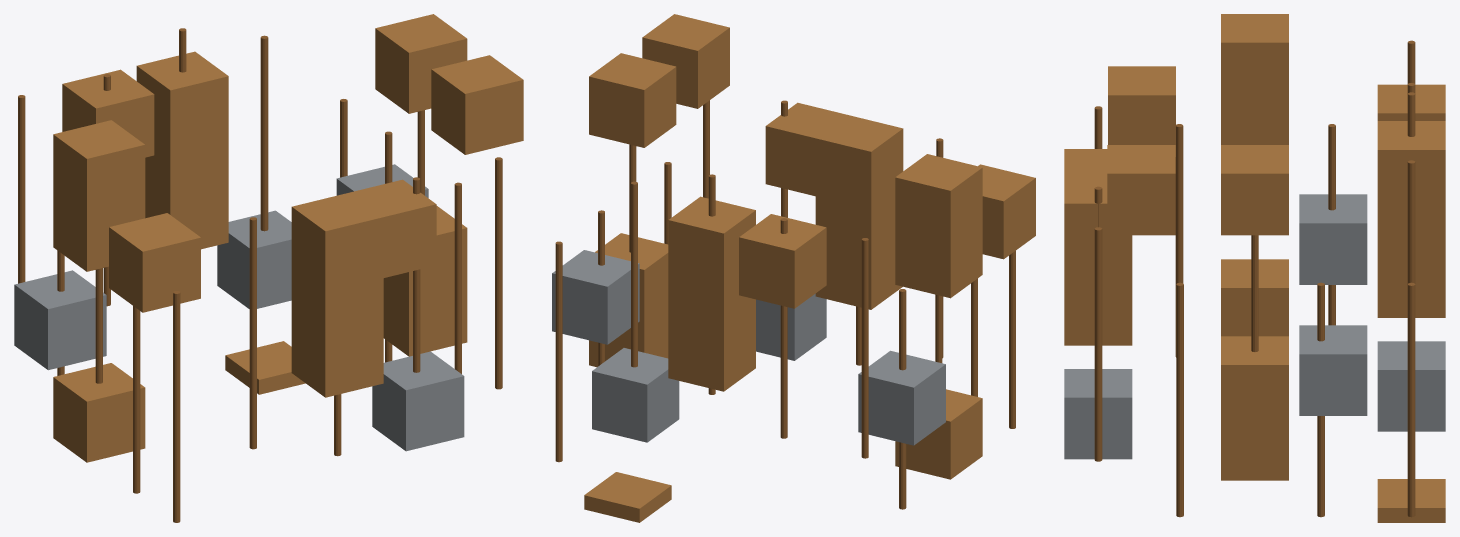
Rendered from upgrade-effect.glb.
3 renders of one model, left to right at view 1: azimuth 30°, elevation 25°; view 2: azimuth 150°, elevation 25°; view 3: azimuth 270°, elevation 25°, orthographic. The views are drawn at different scales.
Visible parts, largest first — view 1: Scaffold_Rail_Right_2.001, Scaffold_Rail_Left_1.001, Scaffold_Brace_Front_0, Scaffold_Rail_Left_2, Scaffold_Rail_Front_2, Scaffold_Brace_Left_2, Scaffold_Rail_Left_0, Scaffold_Rail_Back_2, Scaffold_Rail_Right_2, Scaffold_Rail_Front_0, Scaffold_Brace_Back_1, Scaffold_Rail_Front_2.001 (+20 smaller); view 2: Scaffold_Rail_Right_2, Scaffold_Rail_Back_2.001, Scaffold_Brace_Back_1, Scaffold_Brace_Left_2, Scaffold_Rail_Front_2, Scaffold_Rail_Left_2, Scaffold_Brace_Right_3, Scaffold_Rail_Back_2, Scaffold_Rail_Right_2.001, Scaffold_Rail_Back_0, Scaffold_Rail_Left_1, Scaffold_Rail_Front_2.001 (+18 smaller); view 3: Scaffold_Rail_Right_2.001, Scaffold_Rail_Right_2, Scaffold_Brace_Right_3, Scaffold_Brace_Left_2, Scaffold_Rail_Right_1, Scaffold_Rail_Left_2, Scaffold_Brace_Back_1, Scaffold_Brace_Front_0, Scaffold_Rail_Left_1.001, Scaffold_Rail_Back_2, Scaffold_Rail_Left_0, Scaffold_Rail_Front_2.001 (+17 smaller).
Part boxes in pixels (<box>): Scaffold_Rail_Right_2.001: <box>431,55,523,154</box>; Scaffold_Rail_Left_1.001: <box>109,213,200,312</box>; Scaffold_Brace_Front_0: <box>372,351,464,451</box>; Scaffold_Rail_Left_2: <box>53,120,145,219</box>; Scaffold_Rail_Front_2: <box>291,192,383,291</box>; Scaffold_Brace_Left_2: <box>14,270,106,370</box>; Scaffold_Rail_Left_0: <box>53,363,145,462</box>; Scaffold_Rail_Back_2: <box>136,51,228,151</box>; Scaffold_Rail_Right_2: <box>375,14,467,113</box>; Scaffold_Rail_Front_0: <box>291,312,383,397</box>; Scaffold_Brace_Back_1: <box>217,210,291,308</box>; Scaffold_Rail_Front_2.001: <box>345,179,436,277</box>; Scaffold_Rail_Right_2: <box>589,53,676,147</box>; Scaffold_Rail_Back_2.001: <box>739,214,826,308</box>; Scaffold_Brace_Back_1: <box>592,348,679,442</box>; Scaffold_Brace_Left_2: <box>858,350,945,445</box>; Scaffold_Rail_Front_2: <box>815,115,903,208</box>; Scaffold_Rail_Left_2: <box>895,154,982,247</box>; Scaffold_Brace_Right_3: <box>552,250,639,344</box>; Scaffold_Rail_Back_2: <box>668,196,755,291</box>; Scaffold_Rail_Right_2.001: <box>642,14,729,108</box>; Scaffold_Rail_Back_0: <box>668,311,755,391</box>; Scaffold_Rail_Left_1: <box>895,217,982,298</box>; Scaffold_Rail_Front_2.001: <box>765,102,851,196</box>; Scaffold_Rail_Right_2.001: <box>1107,145,1175,235</box>; Scaffold_Rail_Right_2: <box>1221,145,1288,235</box>; Scaffold_Brace_Right_3: <box>1299,325,1367,415</box>; Scaffold_Brace_Left_2: <box>1299,194,1367,284</box>; Scaffold_Rail_Right_1: <box>1221,336,1288,426</box>; Scaffold_Rail_Left_2: <box>1221,14,1288,104</box>; Scaffold_Brace_Back_1: <box>1377,341,1445,431</box>; Scaffold_Brace_Front_0: <box>1064,369,1132,459</box>; Scaffold_Rail_Left_1.001: <box>1108,66,1175,156</box>; Scaffold_Rail_Back_2: <box>1377,121,1445,211</box>; Scaffold_Rail_Left_0: <box>1221,259,1288,336</box>; Scaffold_Rail_Front_2.001: <box>1064,175,1132,265</box>.
Size of what is drawn, in the model's own units: 13.04 by 12.48 by 11.2.
